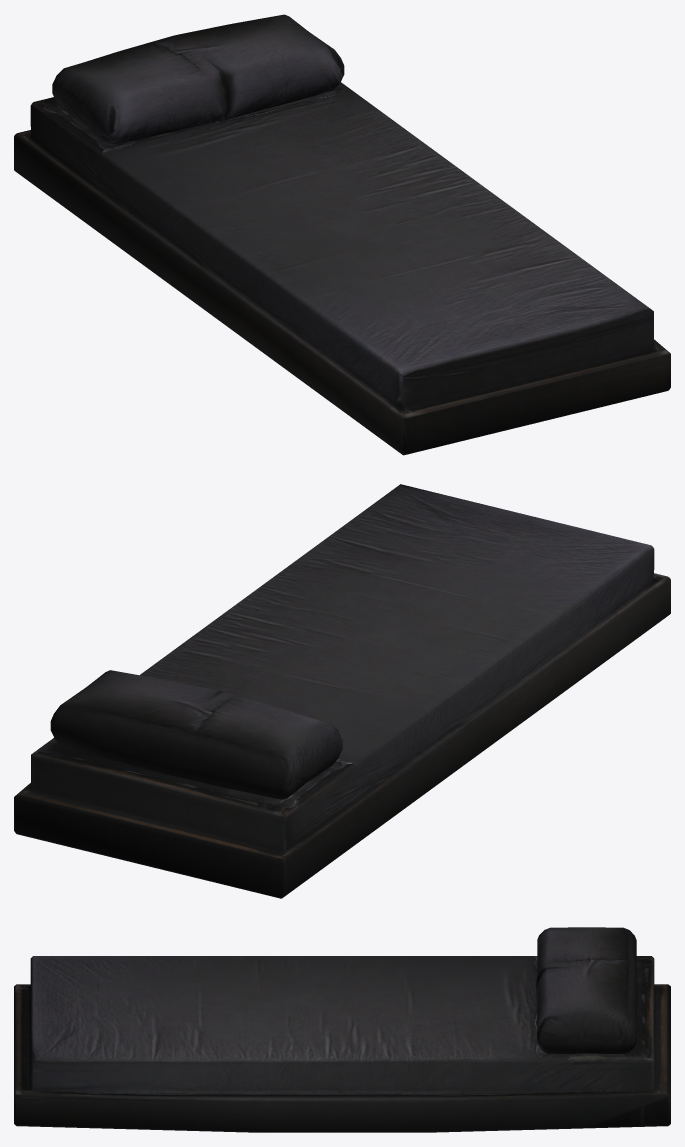
File: _0609194924_texture.fbx
3 renders of one model, top to bottom at view 1: azimuth 30°, elevation 25°; view 2: azimuth 150°, elevation 25°; view 3: azimuth 270°, elevation 25°, orthographic. The views are drawn at different scales.
Parts seen in each view (by area): view 1: pCube12; view 2: pCube12; view 3: pCube12.
Boxes of the visible parts, x1=… form: pCube12: x1=14, y1=14, x2=670, y2=455; pCube12: x1=14, y1=484, x2=670, y2=898; pCube12: x1=14, y1=927, x2=670, y2=1132.
Size of the model in its own units: 84.81 by 35.43 by 200.
Materials: 1 (1 with a texture image).
